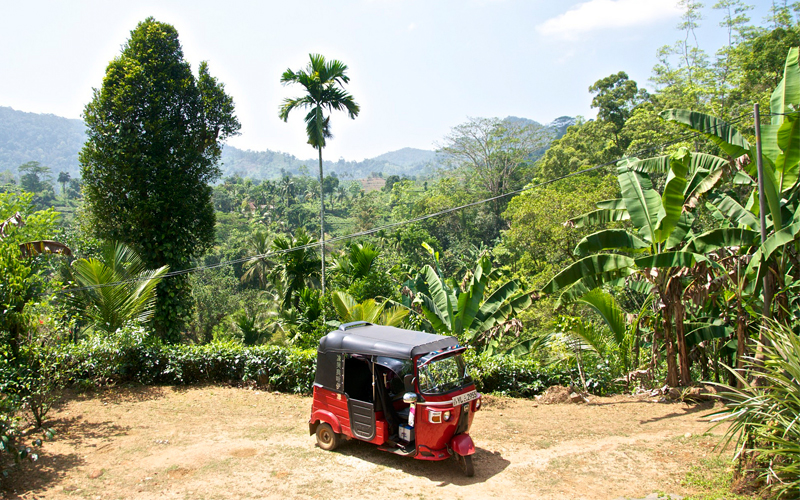tuk tuk: (306, 316, 485, 480)
